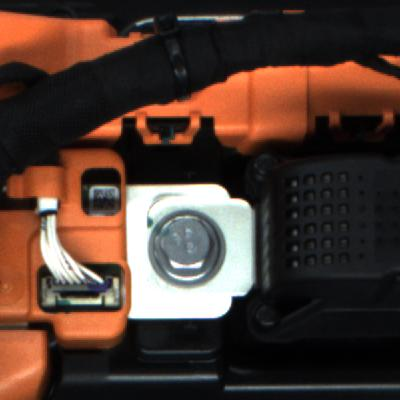nut_b: (135, 197, 236, 295)
